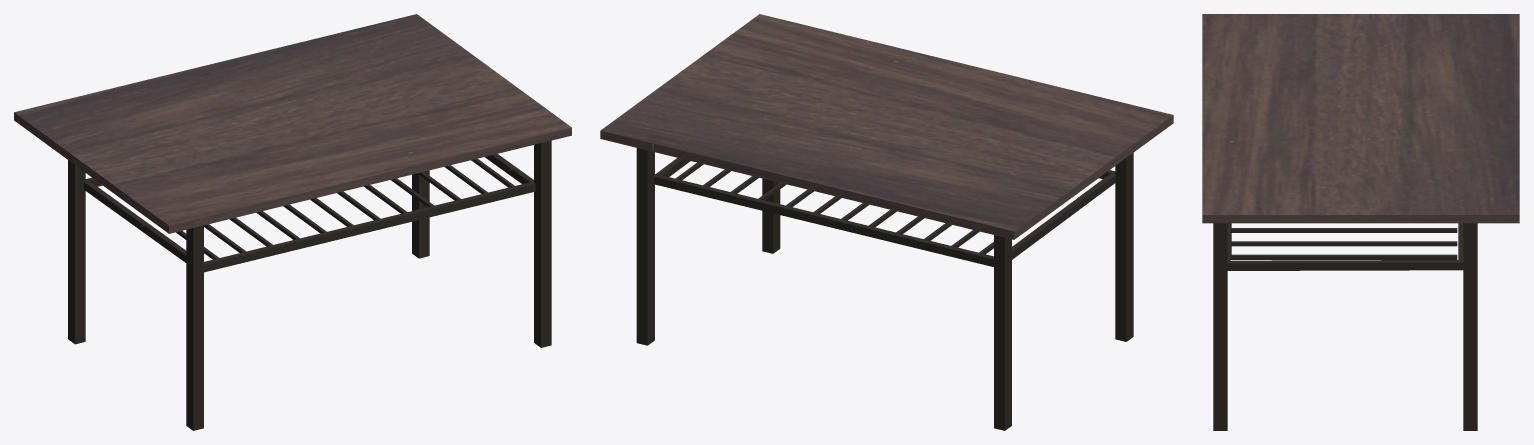
Rendered from ribingtabble.fbx.
3 views of the same model, side by side, from view 1: azimuth 30°, elevation 25°; view 2: azimuth 150°, elevation 25°; view 3: azimuth 270°, elevation 25° (orthographic). The views are drawn at different scales.
Parts seen in each view (by area): view 1: pCube41; view 2: pCube41; view 3: pCube41.
Part boxes in pixels (x1=…): pCube41: x1=14, y1=14, x2=571, y2=430; pCube41: x1=600, y1=14, x2=1173, y2=430; pCube41: x1=1202, y1=14, x2=1519, y2=430.
Size of the model in its own units: 120 by 62.13 by 80.
1 material, 1 textured.
